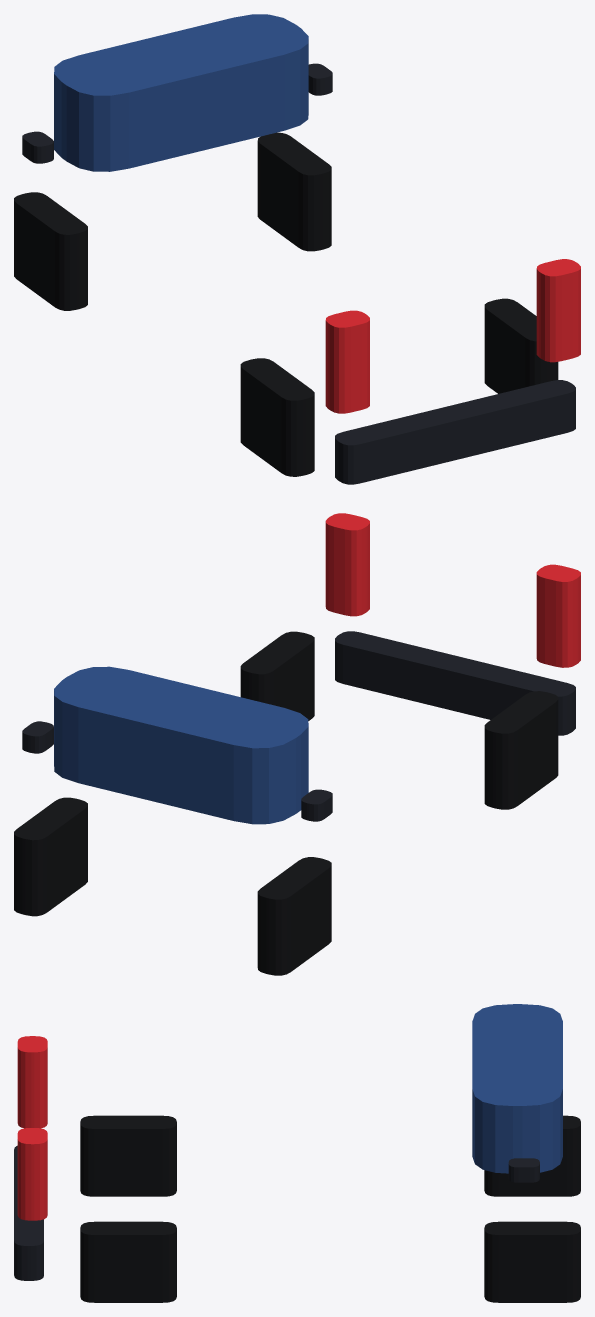
The model's file is car_parts_van.glb.
3 views of the same model, one above another, from view 1: azimuth 30°, elevation 25°; view 2: azimuth 150°, elevation 25°; view 3: azimuth 270°, elevation 25° (orthographic). The views are drawn at different scales.
Bounding box in the file's own units: 2.56 × 1.72 × 4.7.
